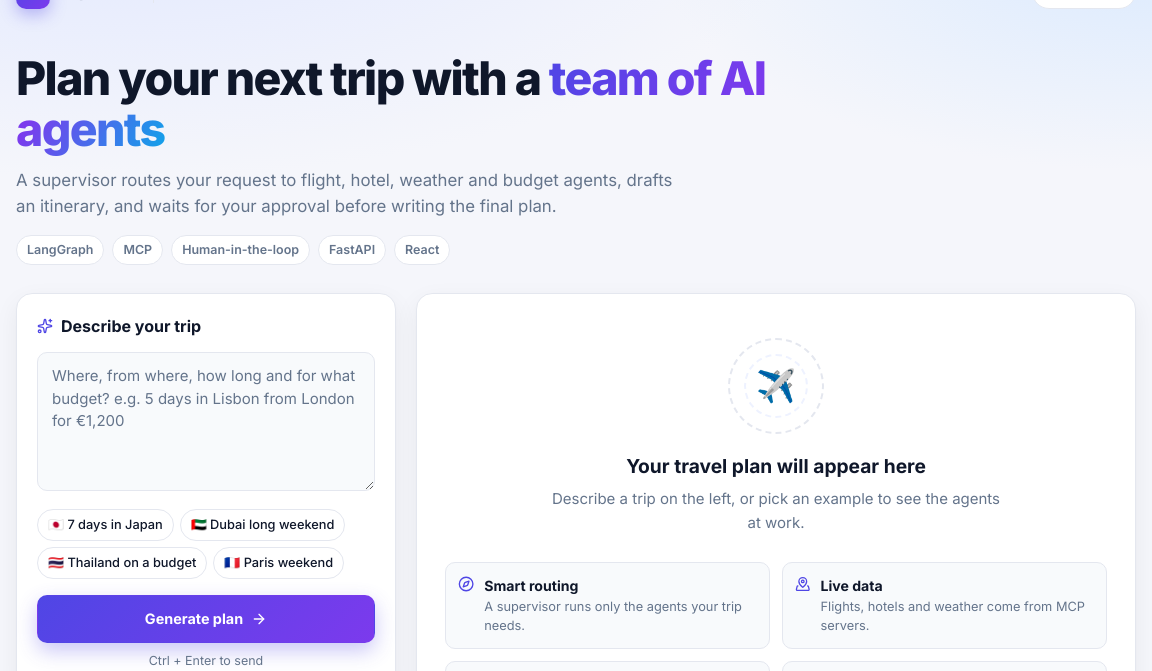
Test: App › sends quick feedback when requesting a revision
In the text box named "Travel request": (206, 422) [37,352,375,491], type "Plan 3 days in Tokyo"
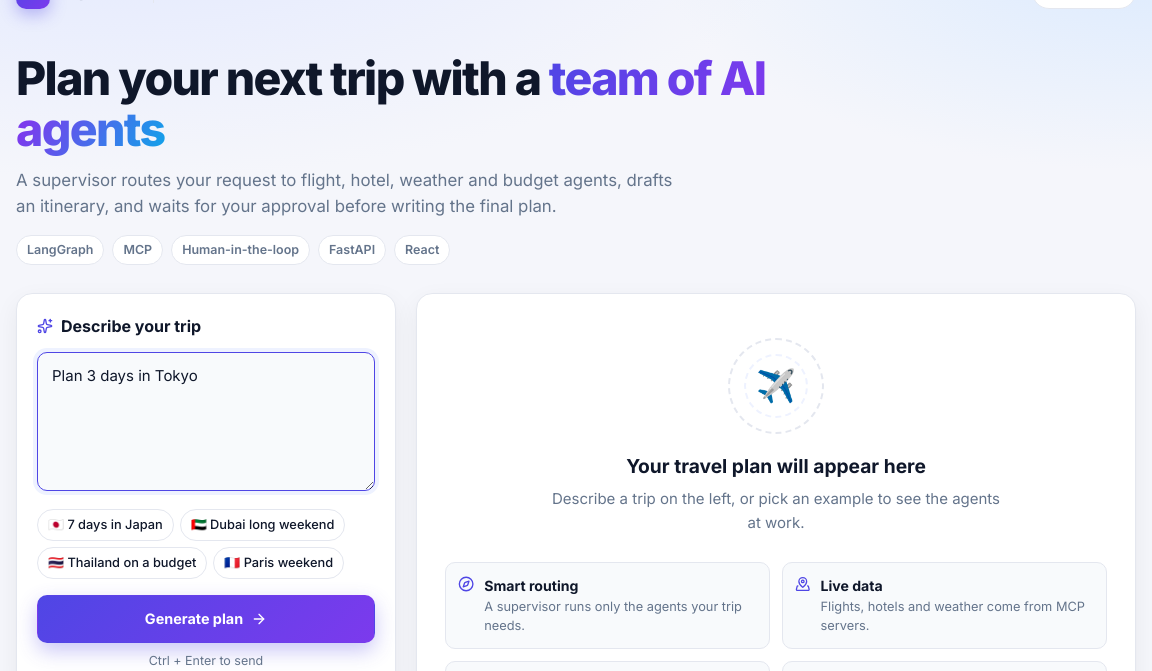
Click the button "Generate plan": (206, 619) [37,595,375,643]
(page scrolled)
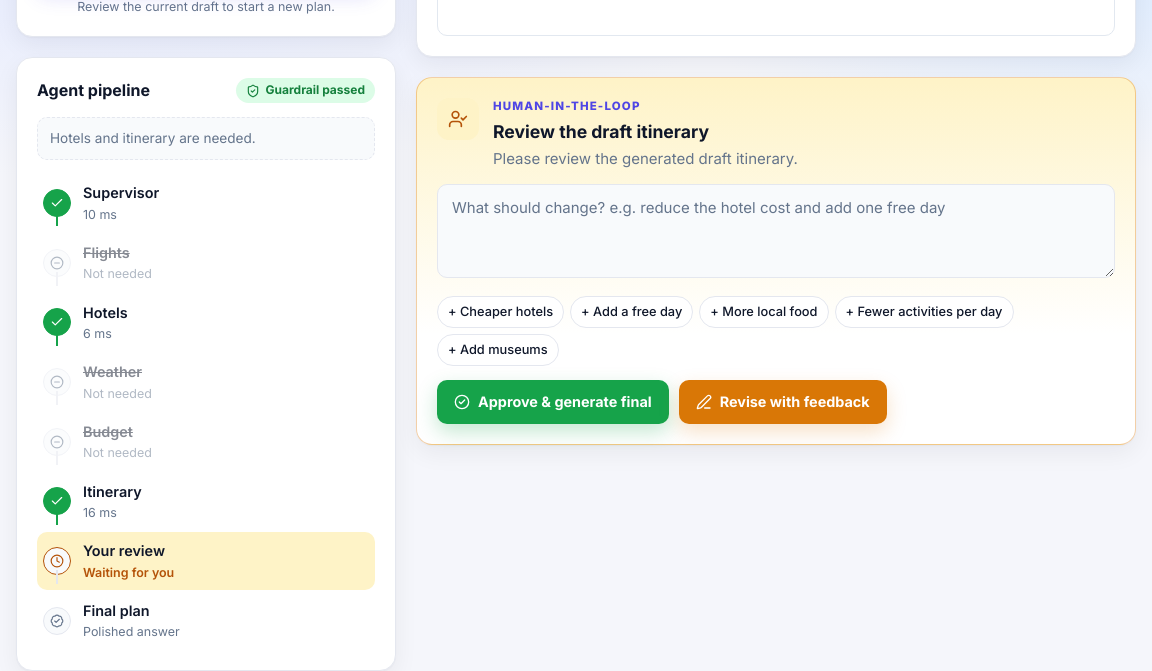
Click the button "+ Cheaper hotels": (500, 312) [437,296,564,328]
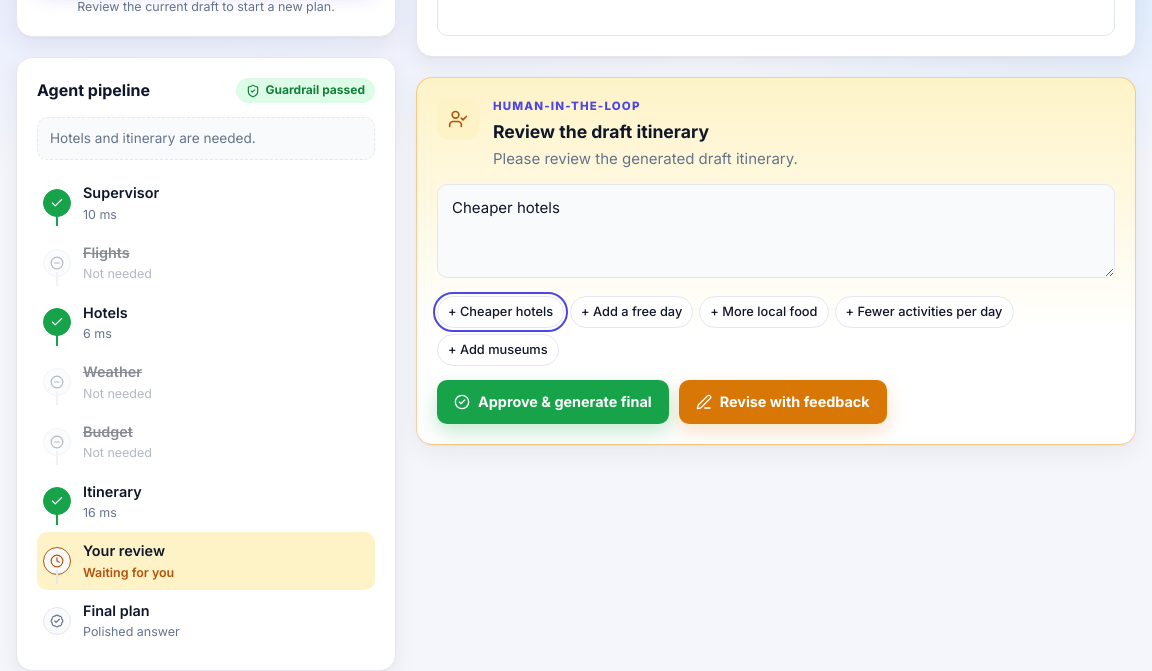
Click the button "Revise with feedback": (783, 402) [679,380,887,424]
(page scrolled)
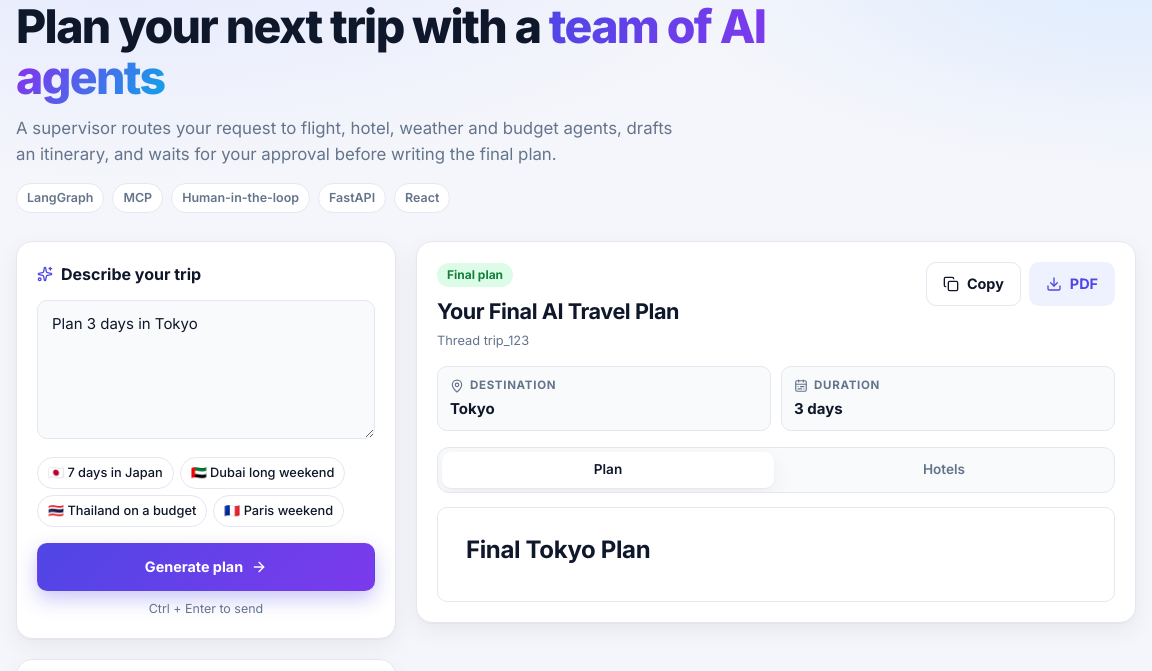
Result: the heading "Your Final AI Travel Plan" is shown at [437,295,679,329]
